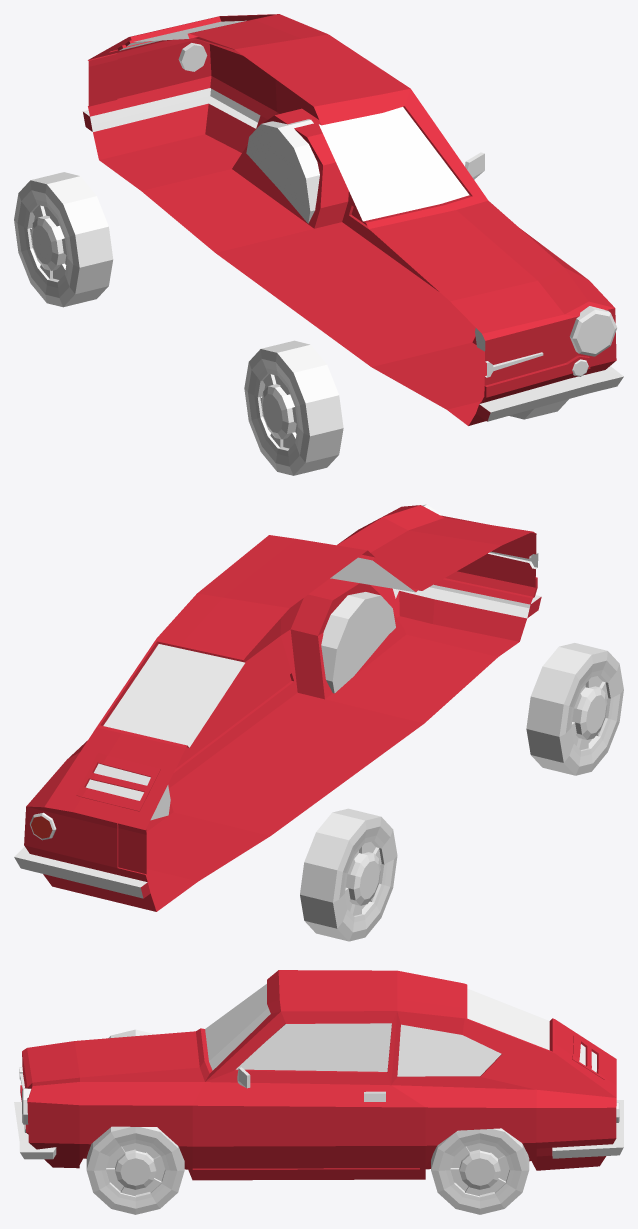
Rendered from seat.glb.
3 renders of one model, top to bottom at view 1: azimuth 30°, elevation 25°; view 2: azimuth 150°, elevation 25°; view 3: azimuth 270°, elevation 25°, orthographic. The views are drawn at different scales.
Visible parts, largest first — view 1: seat 850, wheel.002, wheel.001, wheel.003; view 2: seat 850, wheel.001, wheel.002, wheel; view 3: seat 850, wheel, wheel.003.
Boxes of the visible parts, x1=… form: seat 850: x1=83, y1=14, x2=623, y2=425; wheel.002: x1=244, y1=340, x2=343, y2=475; wheel.001: x1=14, y1=172, x2=113, y2=307; wheel.003: x1=246, y1=119, x2=319, y2=223; seat 850: x1=14, y1=504, x2=541, y2=911; wheel.001: x1=300, y1=808, x2=397, y2=941; wheel.002: x1=526, y1=643, x2=623, y2=775; wheel: x1=321, y1=592, x2=395, y2=693; seat 850: x1=14, y1=970, x2=623, y2=1180; wheel: x1=86, y1=1126, x2=184, y2=1214; wheel.003: x1=431, y1=1128, x2=529, y2=1214.
Bounding box in the file's own units: 0.8356 × 0.7323 × 2.06.
